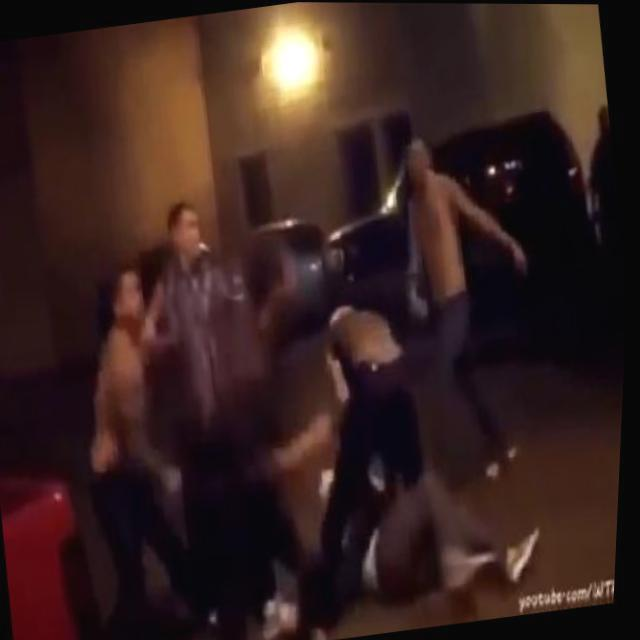fight: (305, 292, 464, 604)
